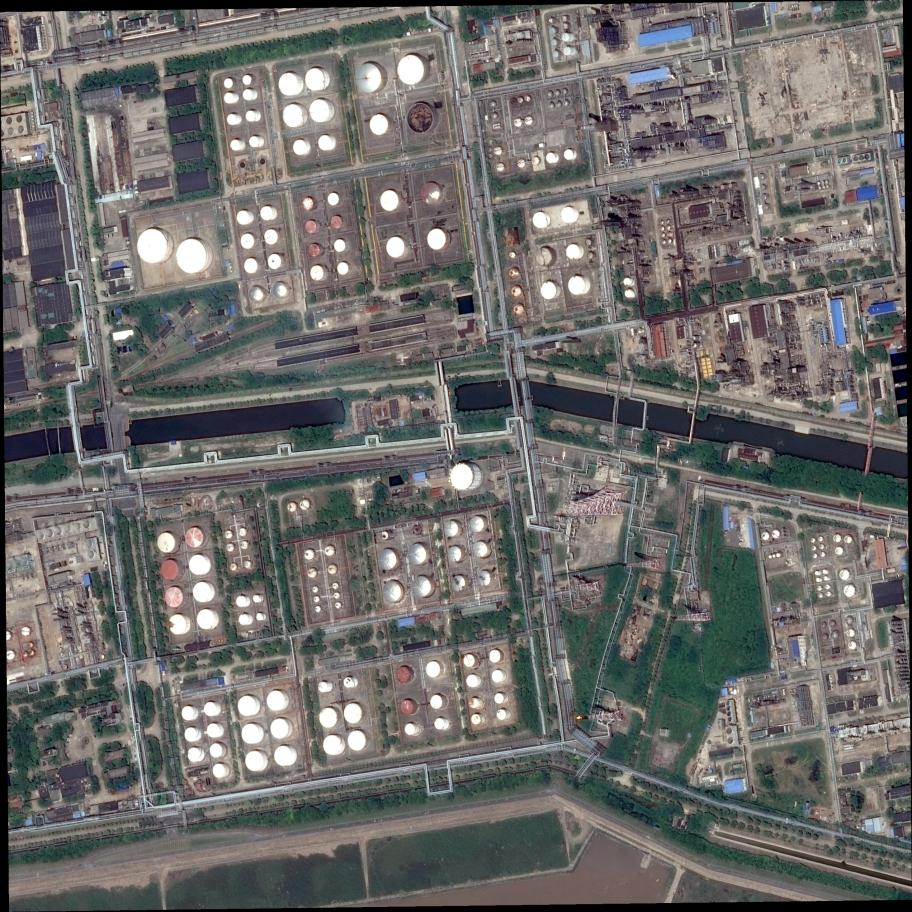storage-tank: (137, 228, 168, 263), (177, 239, 207, 273), (406, 103, 434, 134), (397, 55, 424, 85), (355, 64, 381, 93), (450, 464, 473, 490), (305, 67, 325, 91), (278, 73, 298, 97), (283, 105, 303, 128), (310, 99, 329, 123), (386, 236, 405, 258), (380, 190, 399, 212), (408, 544, 427, 565), (323, 735, 342, 756), (383, 581, 402, 602), (378, 549, 397, 570), (245, 750, 264, 771), (428, 228, 446, 250), (422, 182, 440, 204), (164, 587, 183, 607), (413, 576, 431, 597), (370, 114, 388, 135), (348, 730, 366, 751), (344, 703, 362, 724), (267, 690, 285, 711), (197, 609, 215, 630), (157, 532, 175, 553), (238, 695, 256, 716), (242, 723, 260, 744), (320, 708, 338, 728), (274, 746, 292, 766), (270, 719, 288, 739), (161, 560, 179, 580), (193, 582, 210, 603), (189, 554, 206, 575), (169, 614, 186, 635), (186, 527, 203, 547), (568, 276, 585, 295), (541, 281, 557, 299), (536, 247, 551, 265), (427, 661, 441, 678), (264, 228, 278, 245), (397, 666, 411, 683), (310, 265, 324, 281), (249, 286, 263, 302), (241, 233, 255, 249), (533, 212, 547, 228), (477, 571, 491, 587), (474, 542, 488, 558), (470, 516, 484, 532), (561, 207, 575, 223), (293, 139, 306, 156), (268, 253, 281, 270), (448, 546, 461, 563), (244, 258, 258, 273), (318, 135, 331, 151), (452, 576, 465, 592), (445, 521, 458, 537), (260, 206, 273, 221), (273, 282, 286, 297), (207, 723, 220, 738), (210, 743, 223, 758), (430, 694, 443, 709), (566, 244, 579, 259), (182, 706, 195, 720), (204, 702, 217, 716), (400, 700, 413, 714), (185, 727, 197, 742), (213, 763, 225, 778), (237, 211, 249, 225), (188, 747, 200, 761), (489, 649, 501, 663), (337, 262, 349, 275), (334, 239, 346, 252), (302, 197, 314, 210), (466, 674, 478, 687), (463, 654, 475, 667), (331, 216, 342, 229), (305, 220, 316, 233), (328, 193, 339, 206), (492, 670, 503, 683), (309, 243, 319, 257), (843, 585, 854, 597), (511, 286, 522, 297), (227, 113, 237, 125), (249, 136, 259, 148), (230, 139, 240, 151), (300, 499, 310, 511), (239, 614, 249, 626), (405, 723, 415, 735), (434, 718, 444, 730), (546, 152, 556, 164), (304, 549, 314, 560), (224, 78, 234, 89), (243, 89, 253, 100), (224, 93, 234, 104), (246, 111, 256, 122), (236, 596, 246, 607), (839, 569, 849, 580), (509, 268, 519, 279), (514, 304, 524, 315), (471, 714, 481, 725), (469, 697, 478, 709), (564, 149, 573, 161), (307, 568, 317, 578), (21, 626, 31, 636), (344, 677, 353, 688), (497, 709, 506, 720), (495, 693, 504, 704), (325, 546, 334, 556), (243, 75, 252, 85), (319, 682, 328, 692), (328, 564, 336, 574), (288, 502, 296, 512), (7, 650, 15, 660), (835, 546, 843, 555), (833, 534, 841, 543), (772, 530, 780, 539), (848, 641, 856, 650), (623, 277, 631, 286), (414, 526, 422, 535), (496, 163, 504, 172), (561, 33, 569, 42), (514, 118, 522, 127), (517, 159, 525, 168), (494, 147, 502, 156), (844, 535, 852, 543), (831, 631, 839, 639), (381, 531, 388, 540), (87, 550, 94, 559), (239, 528, 246, 537), (762, 532, 769, 541), (845, 616, 852, 625), (625, 289, 632, 298), (564, 46, 571, 55), (532, 156, 539, 165), (83, 521, 90, 529), (64, 525, 71, 533), (37, 532, 44, 540), (226, 544, 233, 552), (253, 595, 260, 603), (256, 613, 263, 621), (847, 629, 854, 637), (525, 117, 532, 125), (16, 115, 23, 123), (259, 158, 266, 165), (335, 602, 342, 609), (74, 523, 81, 530), (55, 528, 62, 535), (727, 737, 734, 744), (491, 113, 498, 120), (489, 101, 496, 108), (240, 161, 246, 169), (333, 582, 339, 590), (86, 540, 92, 548), (47, 529, 53, 537), (8, 127, 14, 135), (6, 117, 12, 125), (18, 125, 24, 133), (245, 560, 251, 568), (241, 541, 247, 549), (225, 531, 231, 539), (230, 563, 236, 571), (758, 173, 764, 181), (553, 50, 559, 58), (551, 39, 557, 47), (312, 586, 318, 593), (314, 596, 320, 603), (334, 592, 340, 599), (726, 728, 732, 735), (761, 194, 767, 201), (585, 239, 591, 246), (509, 251, 515, 258), (550, 28, 556, 35), (587, 252, 593, 259), (562, 88, 568, 95), (554, 90, 560, 97), (525, 95, 531, 102), (517, 97, 523, 104), (763, 204, 768, 212), (315, 606, 321, 612), (822, 634, 828, 640), (563, 100, 569, 106), (547, 91, 553, 97), (563, 23, 568, 30), (549, 102, 554, 109), (23, 651, 28, 657), (100, 654, 105, 660), (28, 642, 33, 648), (818, 536, 823, 542), (826, 591, 831, 597), (821, 622, 826, 628), (859, 155, 864, 161), (830, 621, 835, 627), (562, 15, 567, 21), (556, 101, 561, 107), (817, 586, 822, 591), (819, 544, 824, 549), (810, 538, 815, 543), (853, 156, 858, 161), (522, 12, 527, 17), (488, 153, 493, 158), (30, 650, 34, 656), (63, 664, 67, 670), (812, 545, 816, 551), (660, 226, 664, 232), (865, 154, 869, 160), (761, 184, 765, 190), (662, 240, 666, 245), (813, 553, 817, 558), (819, 593, 823, 598), (825, 585, 829, 590), (824, 576, 828, 581), (816, 578, 820, 583), (815, 571, 819, 576), (821, 552, 825, 557), (772, 553, 776, 558), (768, 554, 772, 559), (727, 706, 731, 711), (667, 232, 671, 237), (661, 233, 665, 238), (667, 225, 671, 230), (838, 159, 842, 164), (517, 14, 522, 18), (549, 18, 553, 23), (488, 147, 492, 152), (823, 570, 827, 574), (726, 701, 730, 705), (727, 712, 731, 716), (728, 718, 732, 722), (660, 221, 664, 225), (777, 553, 780, 558), (843, 158, 846, 163), (60, 652, 63, 656), (59, 647, 62, 651), (826, 185, 829, 189), (822, 185, 825, 189), (818, 186, 821, 190), (32, 122, 35, 125), (31, 115, 34, 118), (718, 721, 721, 724), (718, 726, 721, 729), (667, 220, 670, 223), (825, 181, 828, 184), (821, 181, 824, 184), (817, 182, 820, 185), (33, 125, 35, 128), (32, 118, 34, 121), (31, 112, 33, 114)
